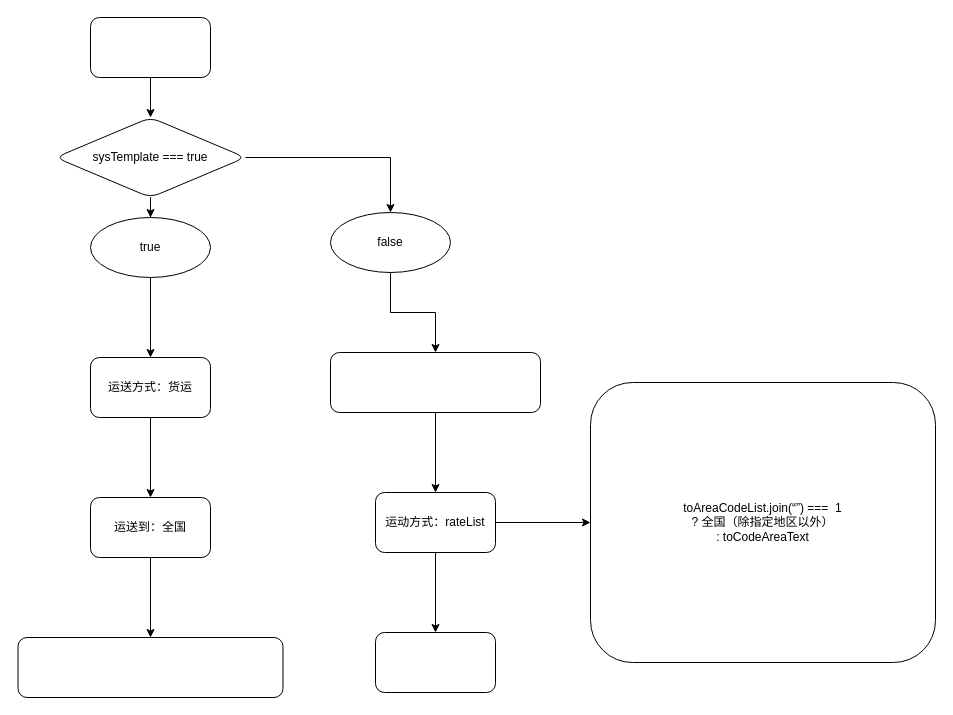
Some shapes in this 953 by 715 pixel diagram are drawn without their labels. The shapes that lost their labels are listed below. From the top down, each one's centre as x and y in pixels, then its label:
the point at 150,47: subTemplateList
the point at 435,382: 运动方式：快递 （subTemplateDTO.chargeType === 0 ? ‘按重量’ ： ‘按件数’）
the point at 150,667: 费率：sourceName + discount * 100 + ‘折’
the point at 435,662: 费率：
